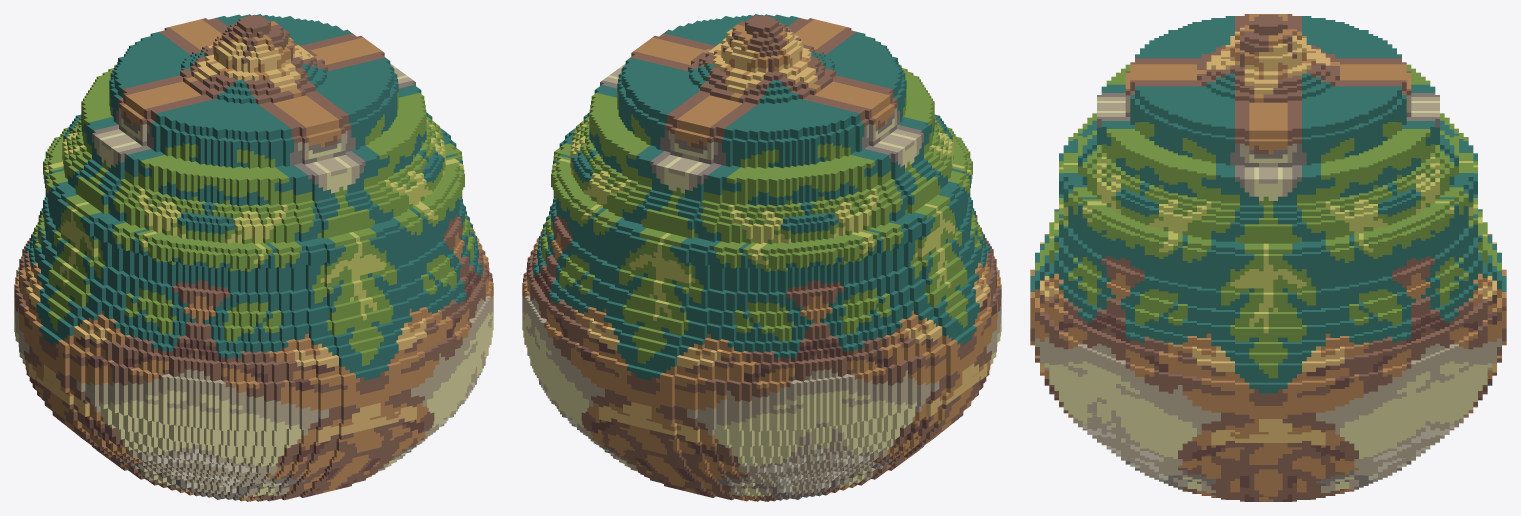
Rendered from gnomo_choupana.glb.
3 views of the same model, side by side, from view 1: azimuth 30°, elevation 25°; view 2: azimuth 150°, elevation 25°; view 3: azimuth 270°, elevation 25° (orthographic).
Parts seen in each view (by area): view 1: q0; view 2: q0; view 3: q0.
Boxes of the visible parts, left/top/right/bottom form: q0: left=14, top=14, right=493, bottom=501; q0: left=522, top=14, right=1001, bottom=501; q0: left=1030, top=14, right=1506, bottom=501.
Bounding box in the file's own units: 100 × 104 × 100.
1 material, 1 textured.
